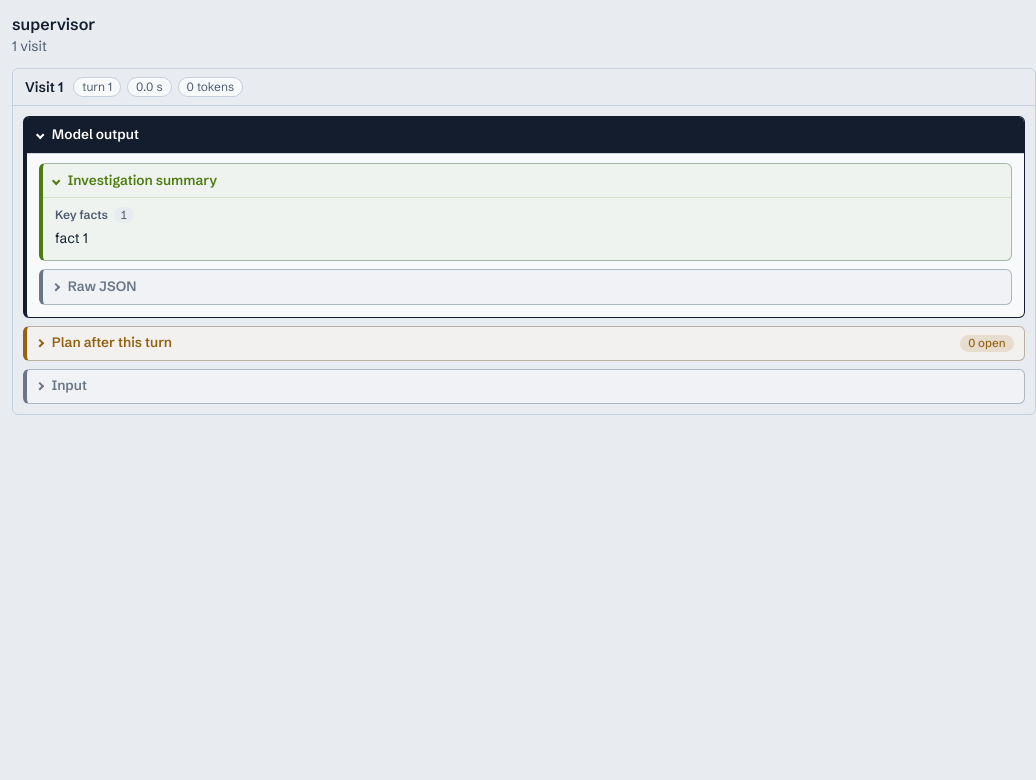
Test: ActorPanel › opens the exact JSON in its own capsule
The image size is (1036, 780).
What coordinates should you click on to do the following:
click the heading "Raw JSON"
I would click on:
 (102, 286)
Its box is [68,278,136,295].
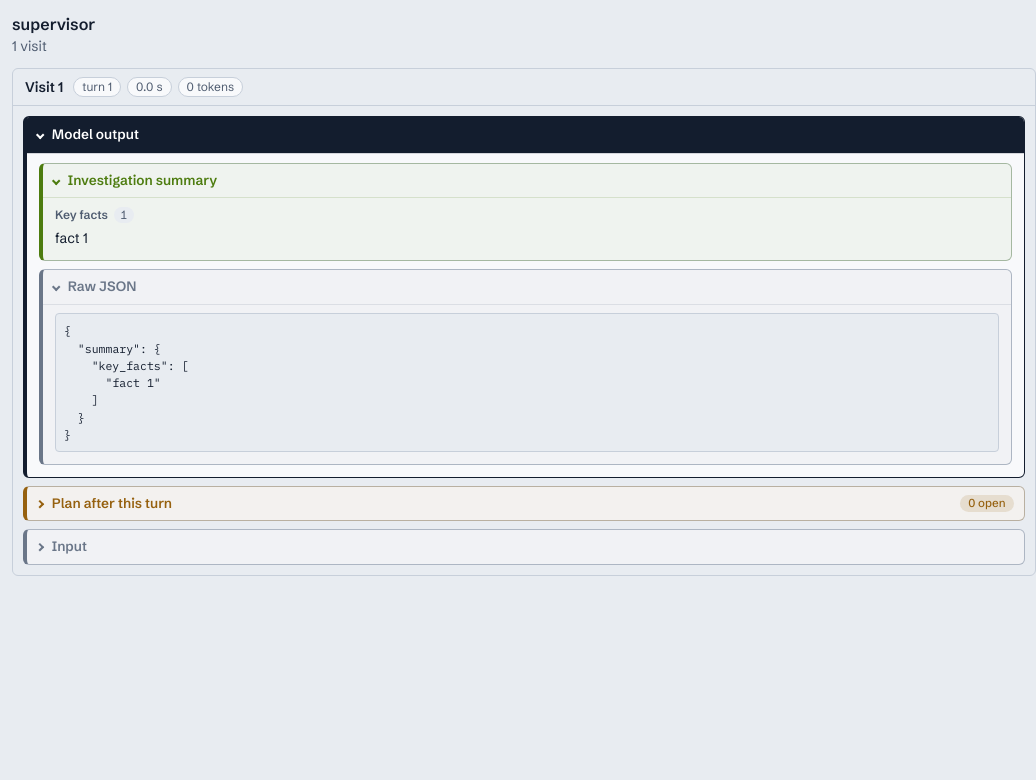
Result: the text "{ \"summary\": { \"key_facts\": [ \"fact 1\" ] } }" is shown at [55,313,999,452]
